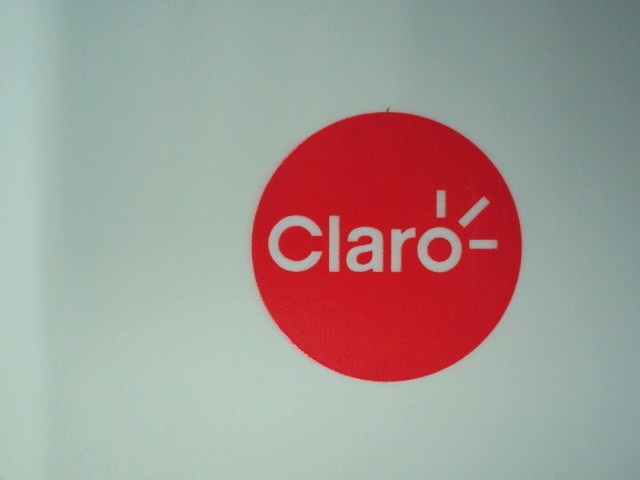BC_ClaorRed: (237, 98, 537, 388)
